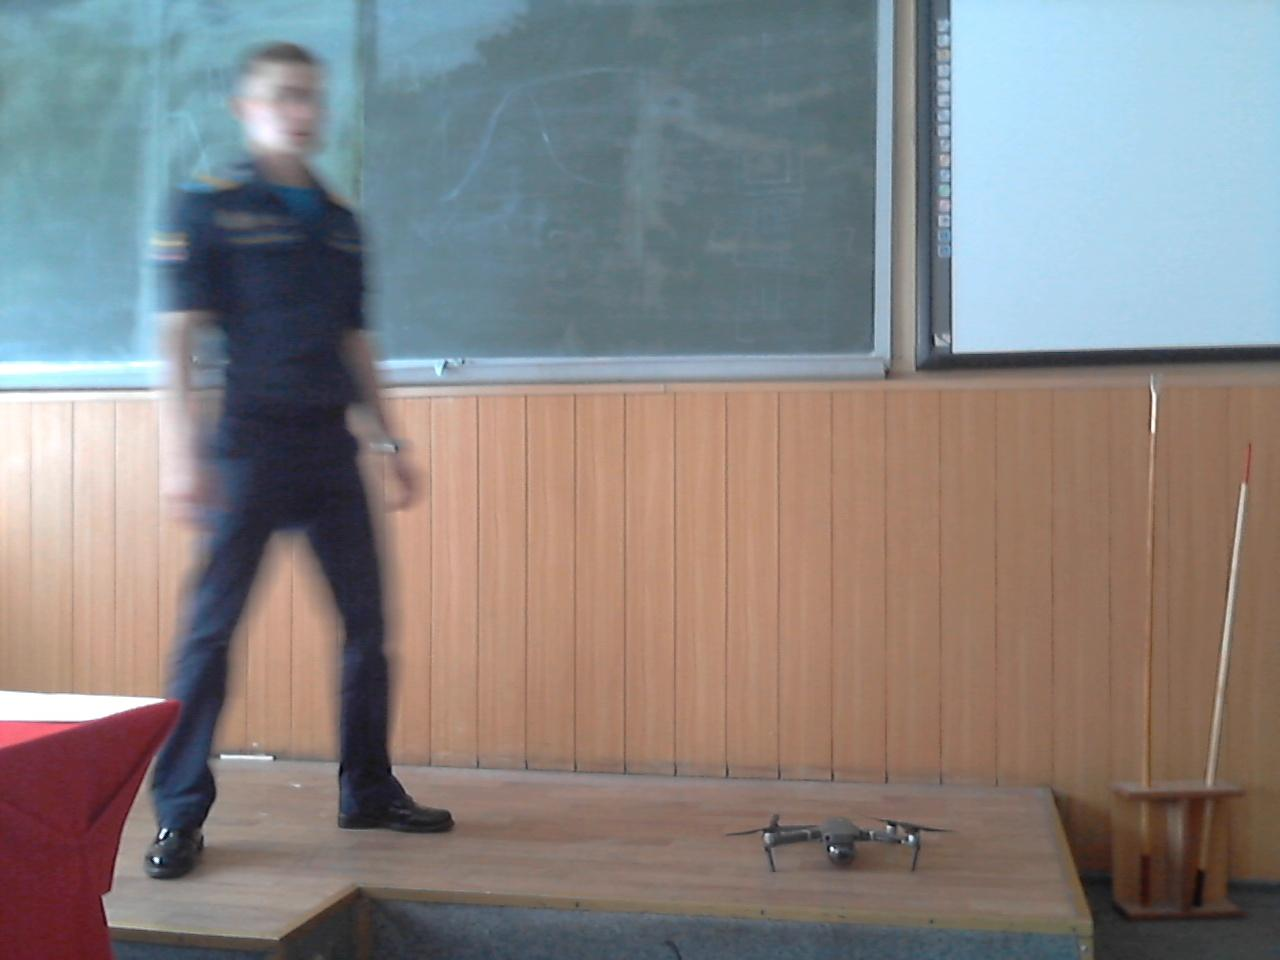drone: (724, 794, 962, 887)
